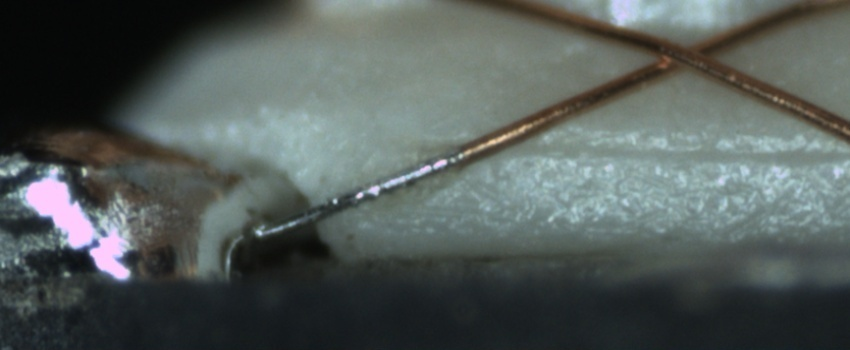CL: (639, 28, 729, 76)
DL: (407, 122, 849, 186)
TS: (252, 149, 466, 242)
